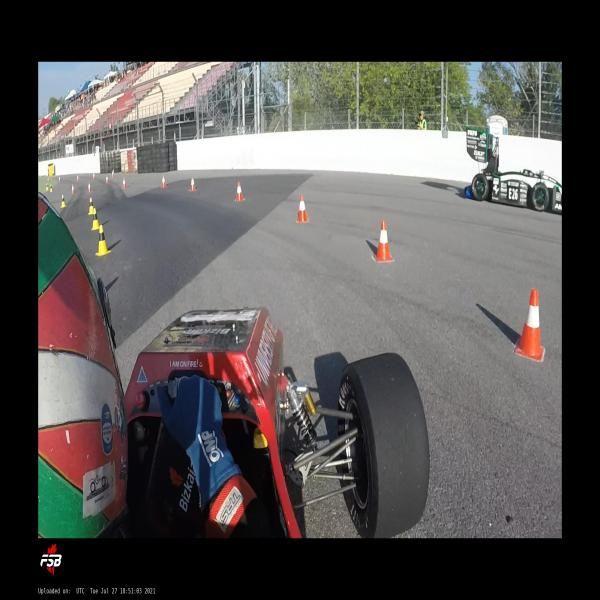blue_cone: (464, 187, 473, 199)
orange_cone: (514, 288, 546, 361), (373, 220, 394, 262), (296, 194, 309, 223), (235, 181, 244, 202), (189, 176, 197, 192), (161, 175, 167, 188), (87, 182, 92, 193), (71, 184, 76, 195), (122, 178, 127, 188), (106, 176, 110, 184), (111, 171, 115, 178), (92, 173, 96, 180), (76, 174, 79, 182)
yellow_cone: (95, 224, 111, 256), (91, 208, 101, 231), (88, 197, 95, 215), (60, 194, 66, 208), (46, 184, 49, 192), (50, 184, 53, 192)
